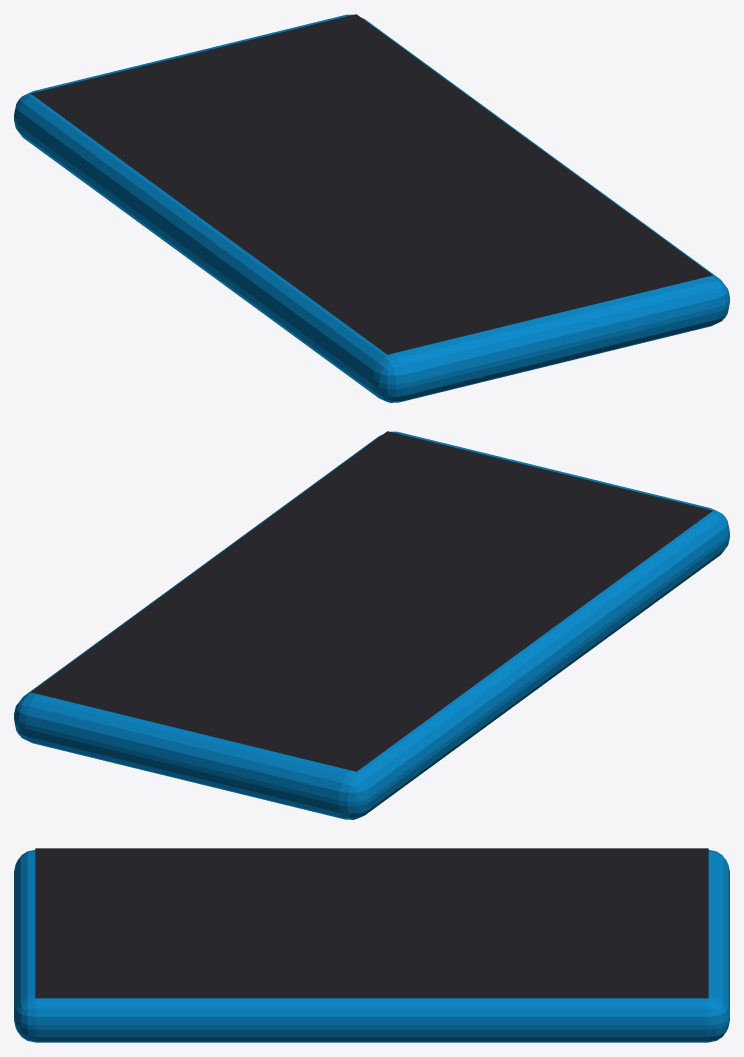
File: Phone_737.glb
The picture shows the model from 3 angles, top to bottom: view 1: azimuth 30°, elevation 25°; view 2: azimuth 150°, elevation 25°; view 3: azimuth 270°, elevation 25°; orthographic projection. The views are drawn at different scales.
Parts seen in each view (by area): view 1: Phone_Screen, Phone_Body; view 2: Phone_Screen, Phone_Body; view 3: Phone_Screen, Phone_Body.
Boxes of the visible parts, bbox=[...] form: Phone_Screen: bbox=[31, 14, 712, 354]; Phone_Body: bbox=[14, 14, 729, 402]; Phone_Screen: bbox=[31, 431, 712, 771]; Phone_Body: bbox=[14, 431, 729, 819]; Phone_Screen: bbox=[35, 848, 708, 998]; Phone_Body: bbox=[14, 850, 729, 1042].
Size of the model in its own units: 0.0762 by 0.0099 by 0.1415.
